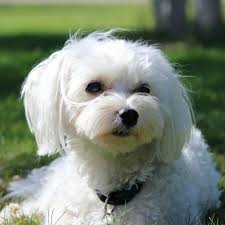dog: (17, 27, 225, 225)
